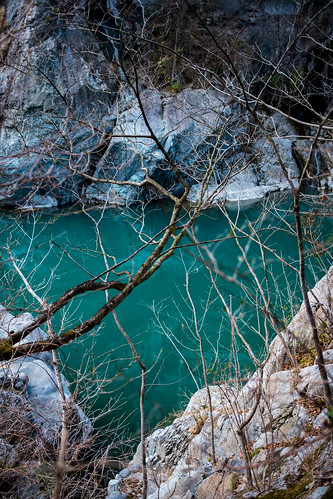river: (16, 210, 333, 390)
rocks: (1, 42, 292, 207)
vegetation: (1, 1, 327, 489)
